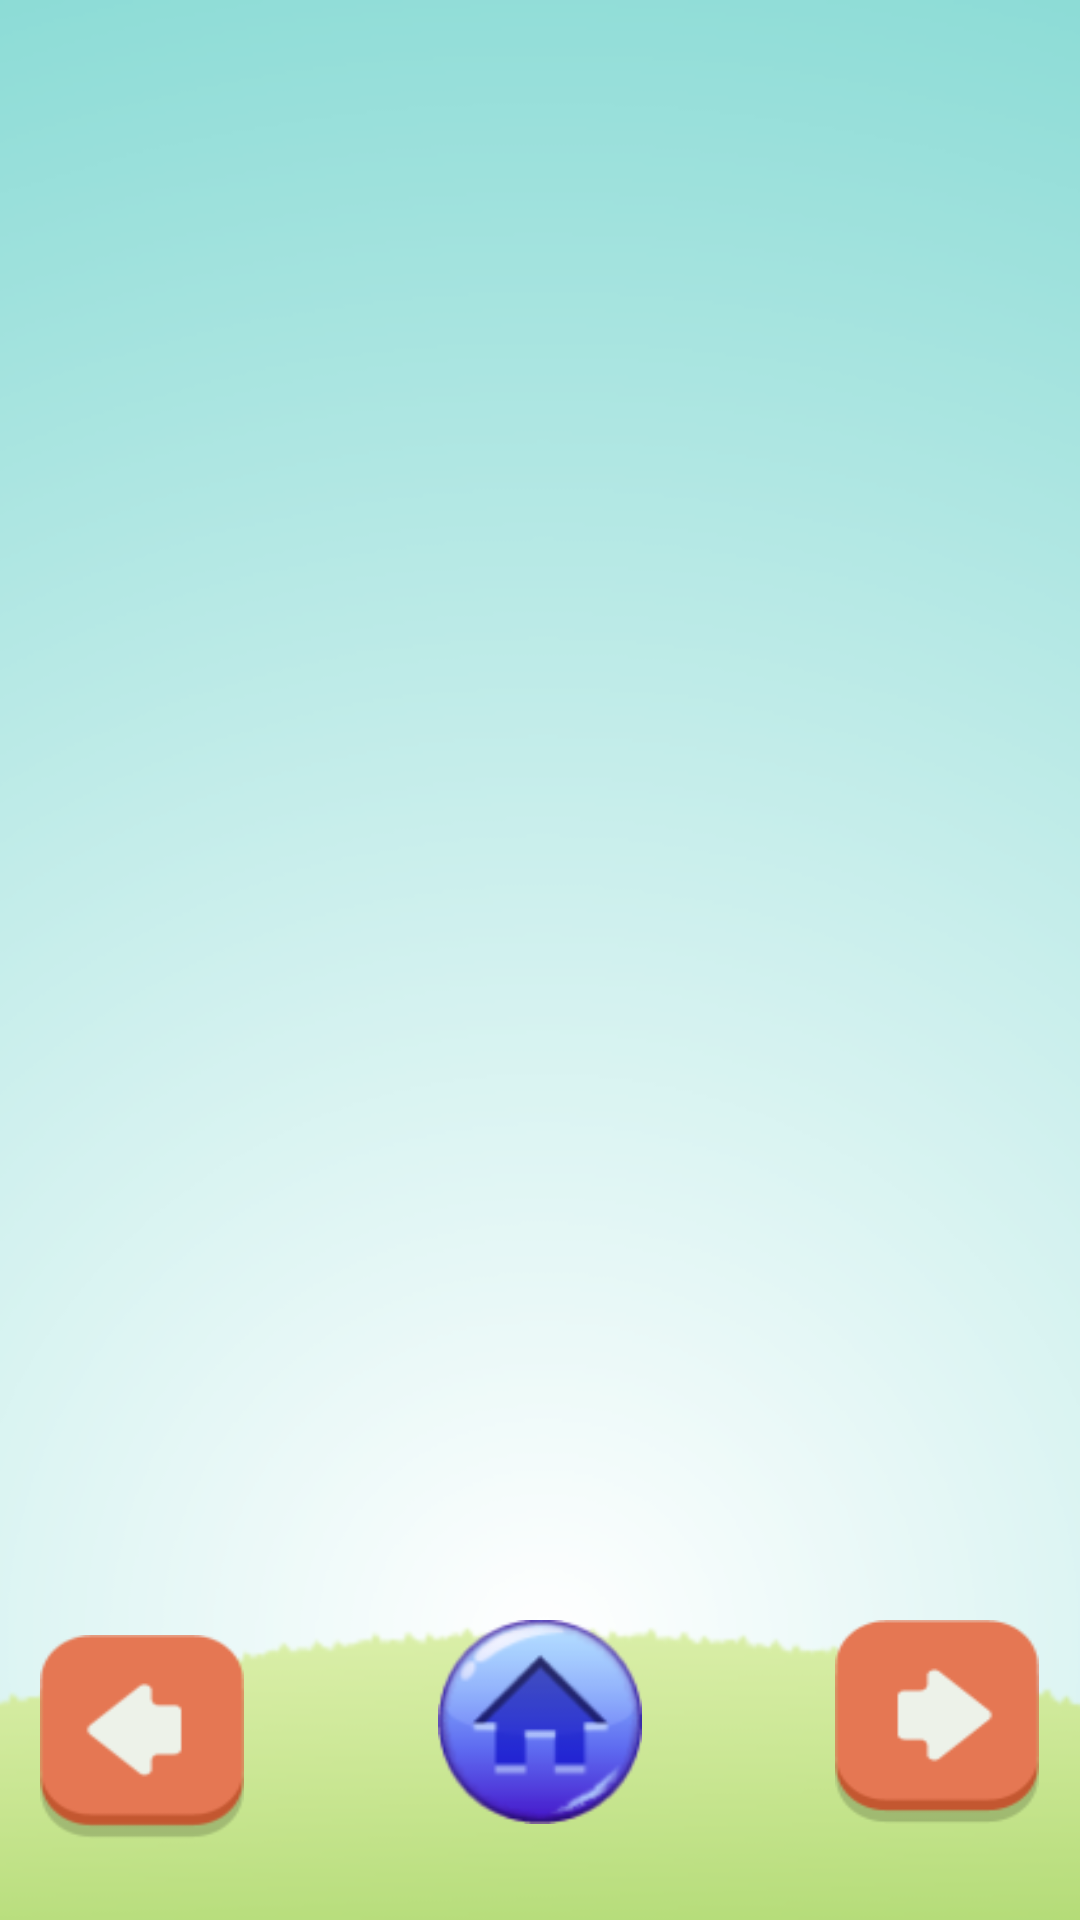

Icon click points for this 1080 × 1920 phone screenshot, format [x,y]:
back: [142,1735]
home: [540,1722]
next: [937,1722]
